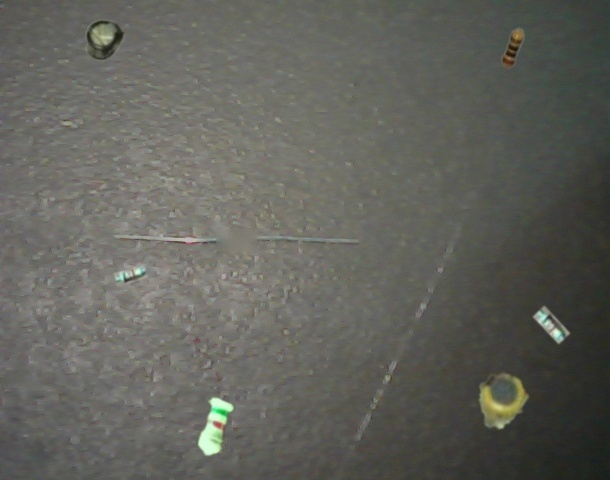capacitor: (479, 372, 529, 429), (86, 20, 125, 61)
resistor: (198, 397, 234, 455), (533, 306, 570, 344), (502, 28, 524, 68), (114, 265, 147, 286)
